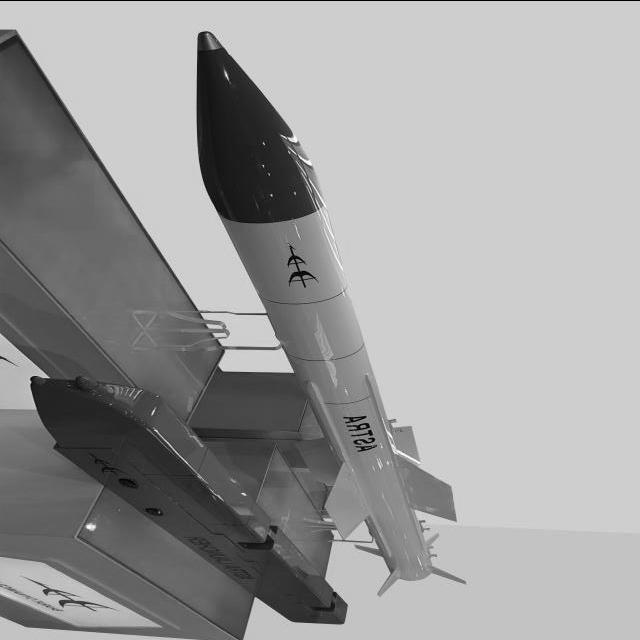Missile: (186, 21, 452, 600)
